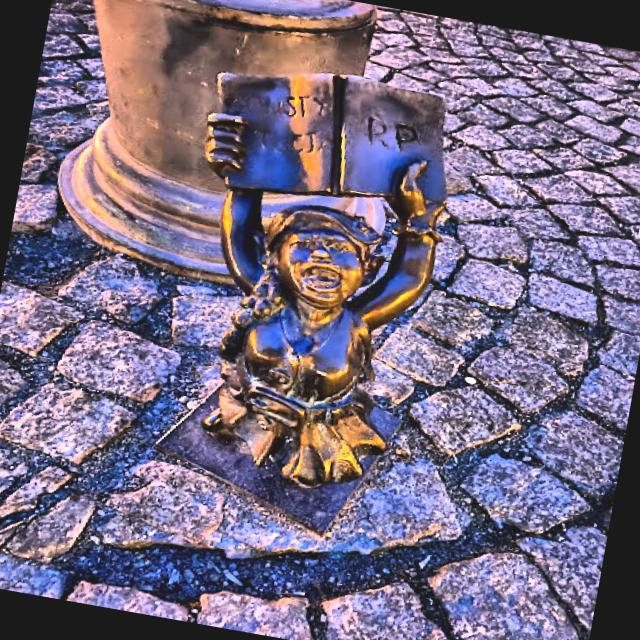Demokracja: (202, 73, 446, 486)
